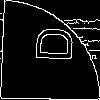D: (25, 24, 74, 63)
